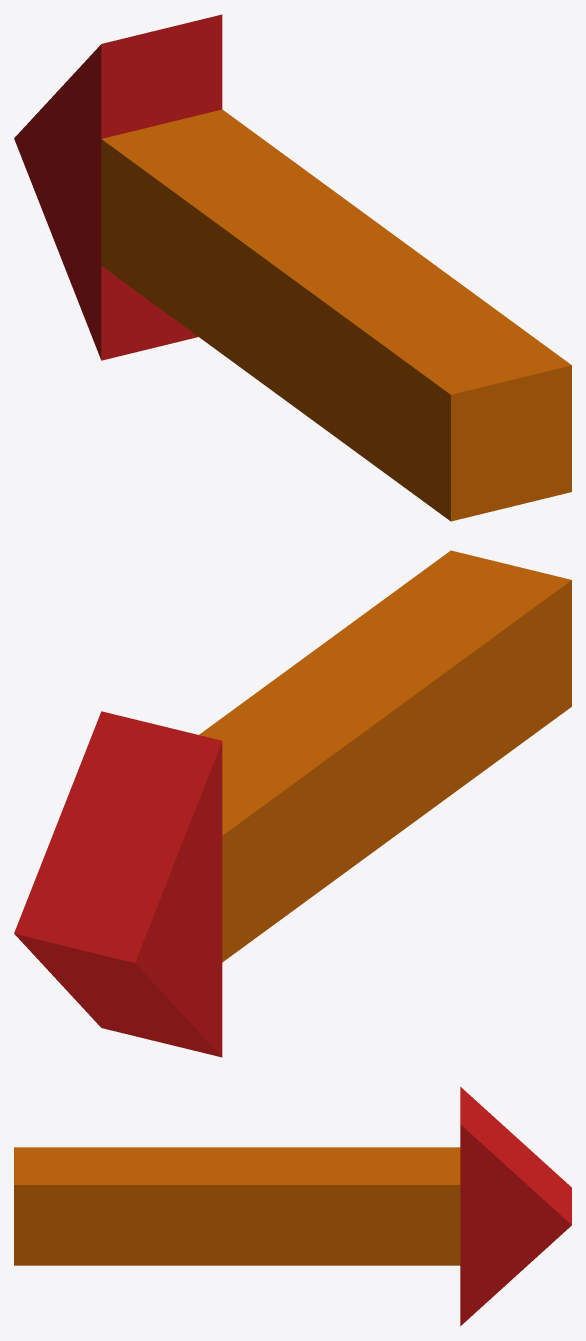
File: SPOT.OBJ
The picture shows the model from 3 angles, top to bottom: view 1: azimuth 30°, elevation 25°; view 2: azimuth 150°, elevation 25°; view 3: azimuth 270°, elevation 25°; orthographic projection. The views are drawn at different scales.
Visible parts, largest first — view 1: SPOT; view 2: SPOT; view 3: SPOT.
Part boxes in pixels (x1=…): SPOT: x1=14, y1=14, x2=571, y2=521; SPOT: x1=14, y1=550, x2=571, y2=1057; SPOT: x1=14, y1=1087, x2=571, y2=1325.
Size of the model in its own units: 0.2 by 0.5 by 1.25.
